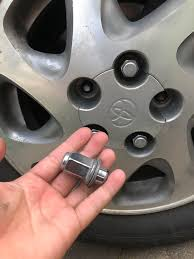l: (113, 56, 147, 87), (127, 129, 153, 154)
m: (151, 87, 182, 124), (68, 75, 100, 107)
